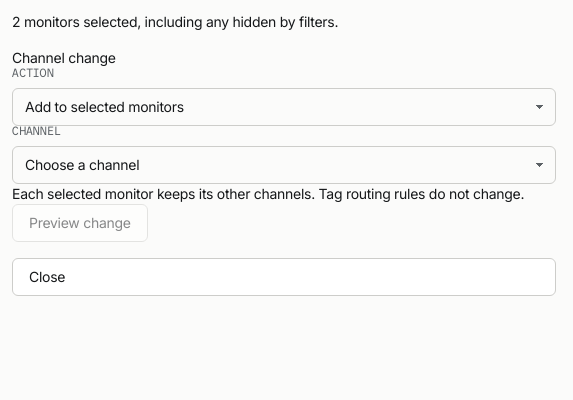
Test: invalidates a completed preview when the channel changes
Step 1. Select "Ops · Slack" in the dropdown labelled "Channel" → (284, 165), box [12,146,556,184]
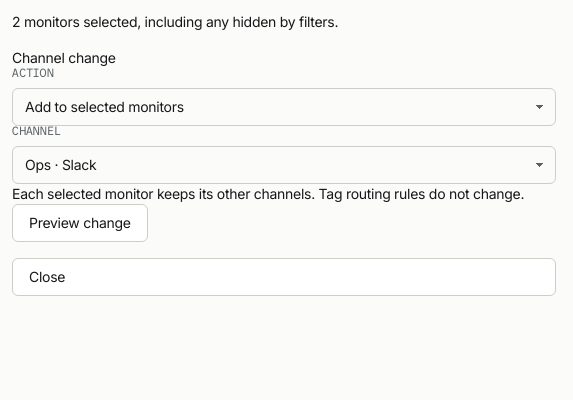
Step 2. Click the button "Preview change" → click(80, 223), box [12,204,148,242]
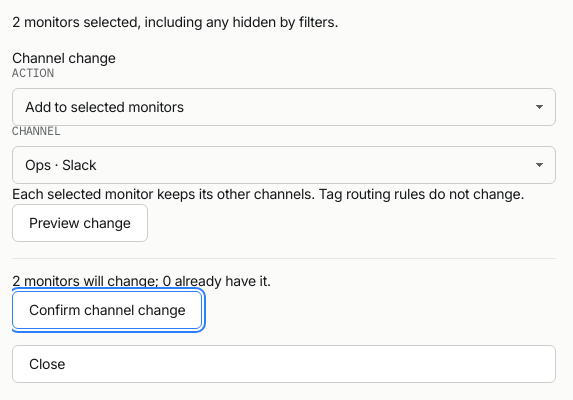
Result: the button "Confirm channel change" is shown at [12,291,202,329]
Step 3. Select "Old hook · Webhook · disabled" in the dropdown labelled "Channel" → (284, 165), box [12,146,556,184]
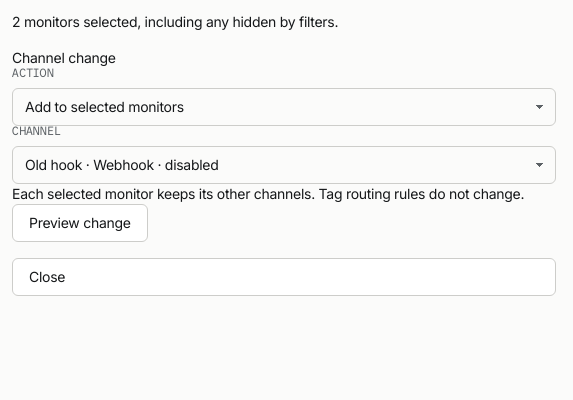
Result: the button "Confirm channel change" is gone
